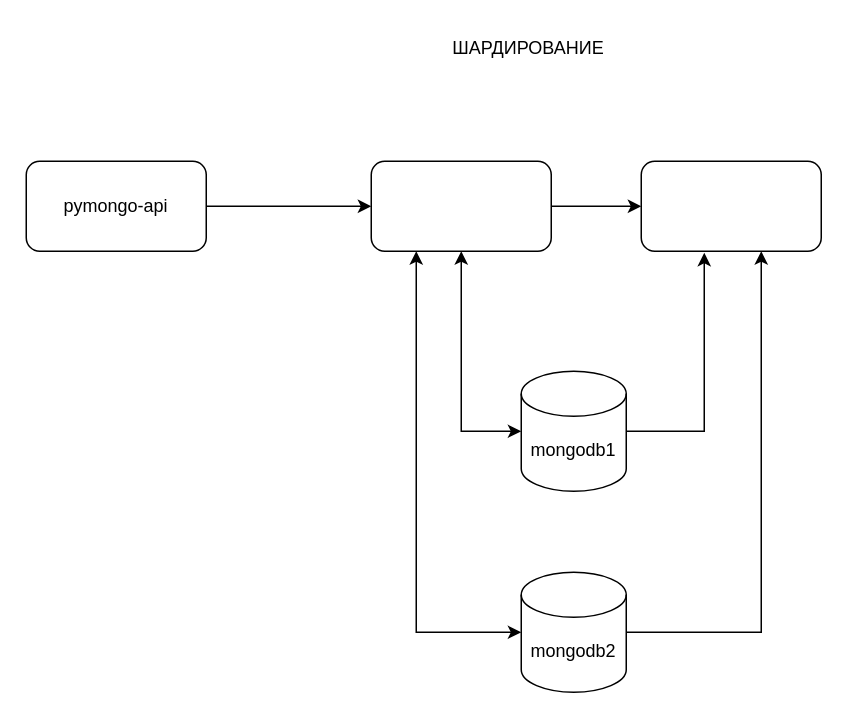
This 848x719 diagram has some shape labels left out. The shapes that lost their labels are listed below. From the top down, each one's centre as x and y in pixels, then its label:
At (x=460, y=205): "router".
At (x=730, y=205): "configServer".
